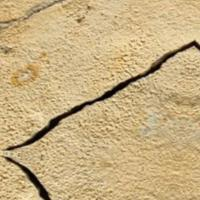crack: (0, 43, 199, 199)
